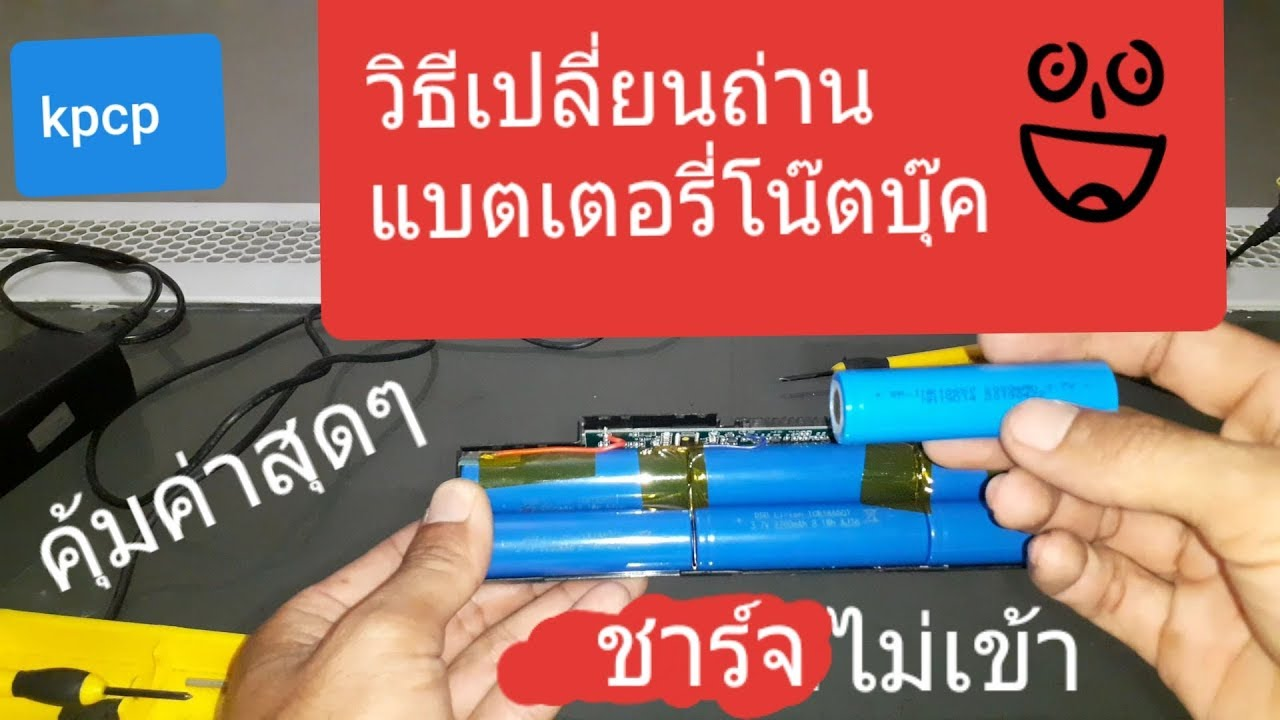Battery: (827, 357, 1123, 446), (692, 502, 932, 572), (485, 504, 694, 577), (458, 447, 692, 510), (688, 442, 929, 501)
